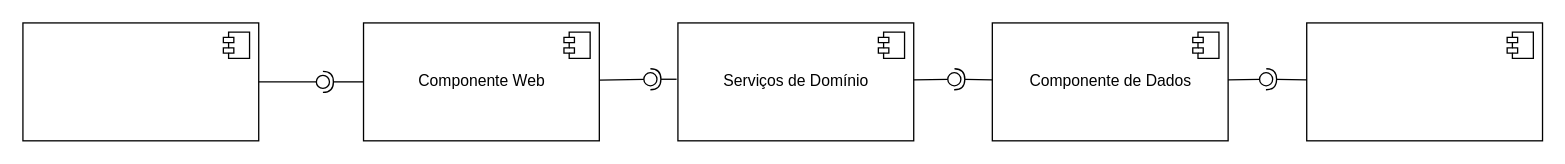
The diagram is 1565 pixels wide and 164 high, and some of its shapes have lost their labels. The centre of each missing label's shape, as x and y in pixels:
Banco de Dados: (x=1424, y=81)
Interface do Usuário: (x=140, y=81)
